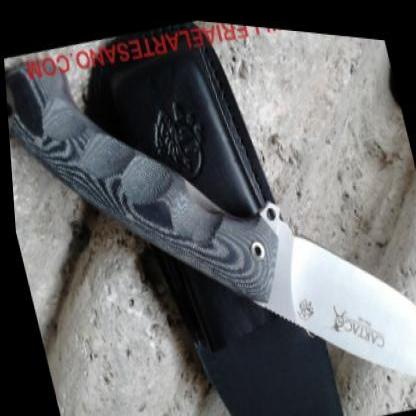knife: (240, 175, 415, 412)
